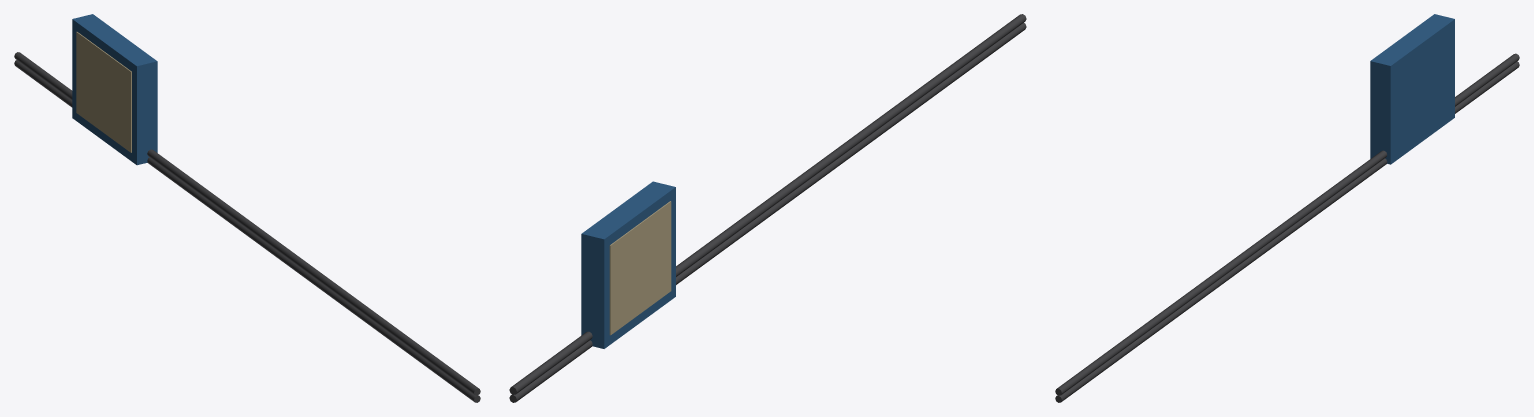
The model's file is pax100_power.obj.
3 views of the same model, side by side, from view 1: azimuth 30°, elevation 25°; view 2: azimuth 150°, elevation 25°; view 3: azimuth 330°, elevation 25° (orthographic). The views are drawn at different scales.
Visible parts, largest first — view 1: pax100_power; view 2: pax100_power; view 3: pax100_power.
Boxes of the visible parts, left/top/right/bottom form: pax100_power: left=14, top=14, right=480, bottom=402; pax100_power: left=509, top=14, right=1026, bottom=402; pax100_power: left=1055, top=14, right=1519, bottom=402.
Bounding box in the file's own units: 0.25 × 1.12 × 9.26.
